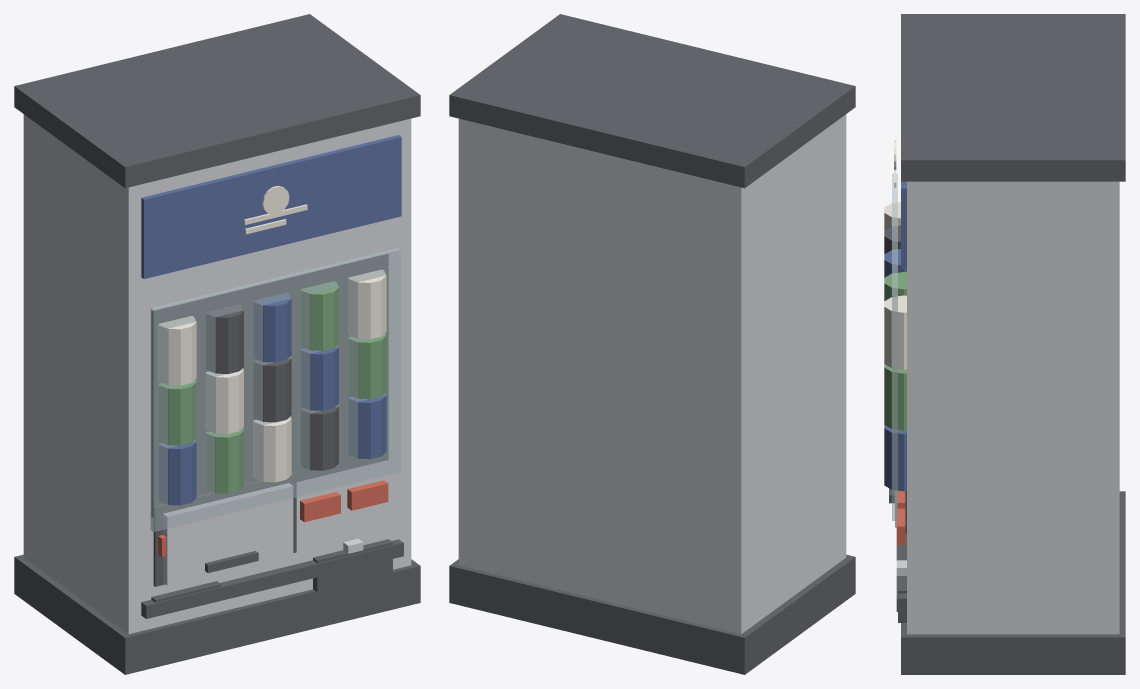
Rendered from drinks_vending_machine.glb.
3 renders of one model, left to right at view 1: azimuth 30°, elevation 25°; view 2: azimuth 150°, elevation 25°; view 3: azimuth 270°, elevation 25°, orthographic.
Parts seen in each view (by area): view 1: drinks-vending-machine-steel, drinks-vending-machine-charcoal, drinks-vending-machine-glass, drinks-vending-machine-indigo, drinks-vending-machine-cream, drinks-vending-machine-leaf, flap/steel, drinks-vending-machine-vermilion, flap/charcoal; view 2: drinks-vending-machine-steel, drinks-vending-machine-charcoal; view 3: drinks-vending-machine-steel, drinks-vending-machine-charcoal, drinks-vending-machine-indigo, drinks-vending-machine-cream, drinks-vending-machine-glass, drinks-vending-machine-leaf, drinks-vending-machine-vermilion.
Part boxes in pixels (bbox=[...]): drinks-vending-machine-steel: bbox=[23, 114, 411, 634]; drinks-vending-machine-charcoal: bbox=[14, 14, 420, 674]; drinks-vending-machine-glass: bbox=[150, 248, 400, 531]; drinks-vending-machine-indigo: bbox=[141, 135, 401, 505]; drinks-vending-machine-cream: bbox=[158, 185, 386, 482]; drinks-vending-machine-leaf: bbox=[158, 281, 386, 493]; flap/steel: bbox=[163, 483, 293, 585]; drinks-vending-machine-vermilion: bbox=[158, 480, 388, 556]; flap/charcoal: bbox=[205, 551, 258, 572]; drinks-vending-machine-steel: bbox=[458, 114, 846, 634]; drinks-vending-machine-charcoal: bbox=[449, 14, 855, 674]; drinks-vending-machine-steel: bbox=[896, 181, 1119, 634]; drinks-vending-machine-charcoal: bbox=[884, 14, 1125, 674]; drinks-vending-machine-indigo: bbox=[884, 181, 906, 491]; drinks-vending-machine-cream: bbox=[884, 140, 906, 369]; drinks-vending-machine-glass: bbox=[892, 173, 897, 520]; drinks-vending-machine-leaf: bbox=[884, 272, 906, 430]; drinks-vending-machine-vermilion: bbox=[896, 490, 905, 545].
Bounding box in the file's own units: 1.17 × 1.92 × 0.8162.
